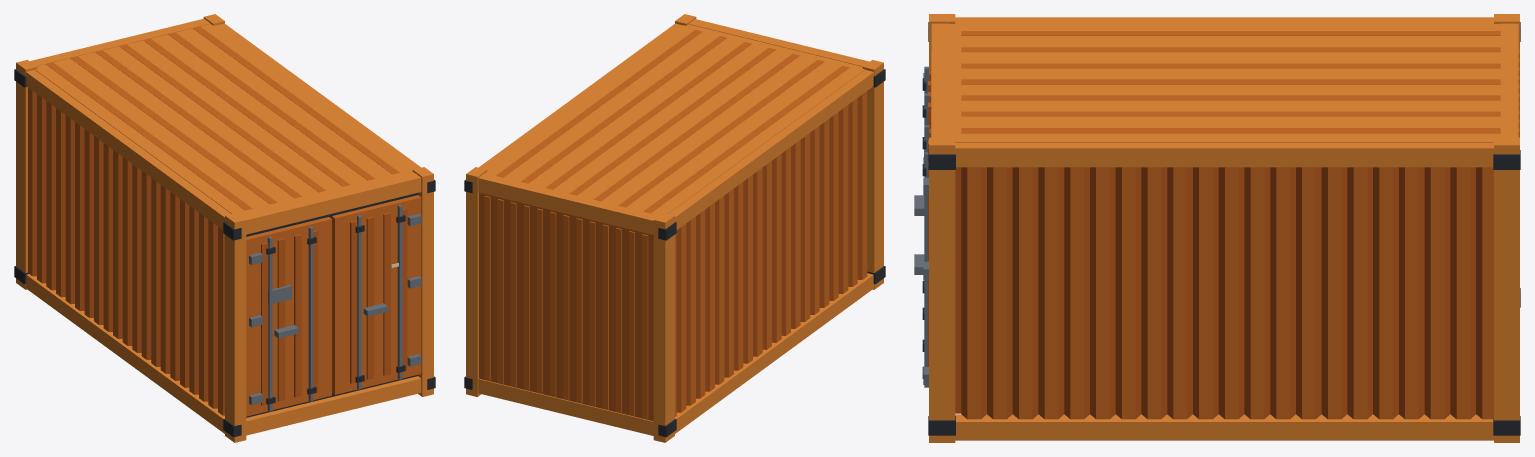
The model's file is wsc-prop-058-shipping-container-far.glb.
3 renders of one model, left to right at view 1: azimuth 30°, elevation 25°; view 2: azimuth 150°, elevation 25°; view 3: azimuth 270°, elevation 25°, orthographic. The views are drawn at different scales.
Visible parts, largest first — view 1: Far container | orange3, Far container | orange4, Far container | orange2, Far container | steel, Far container | deep; view 2: Far container | orange3, Far container | orange4, Far container | orange2, Far container | deep; view 3: Far container | orange3, Far container | orange4, Far container | orange2, Far container | deep, Far container | steel.
Part boxes in pixels (box(x1,y1,x2,y2)): Far container | orange3: box(16, 14, 433, 442); Far container | orange4: box(28, 26, 421, 416); Far container | orange2: box(32, 91, 407, 415); Far container | steel: box(249, 205, 421, 411); Far container | deep: box(14, 69, 435, 437); Far container | orange3: box(466, 14, 883, 442); Far container | orange4: box(484, 30, 867, 419); Far container | orange2: box(479, 95, 862, 421); Far container | deep: box(464, 69, 885, 437); Far container | orange3: box(929, 14, 1519, 442); Far container | orange4: box(931, 31, 1519, 419); Far container | orange2: box(928, 70, 1482, 418); Far container | deep: box(922, 22, 1520, 435); Far container | steel: box(914, 66, 929, 387).
Bounding box in the file's own units: 2.44 × 2.54 × 4.7.
